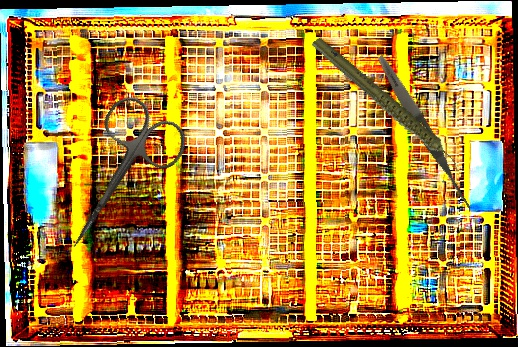Dressing Forceps: (372, 52, 478, 212)
Handpiece: (309, 13, 463, 199)
Iris Scissors: (36, 89, 195, 270)
